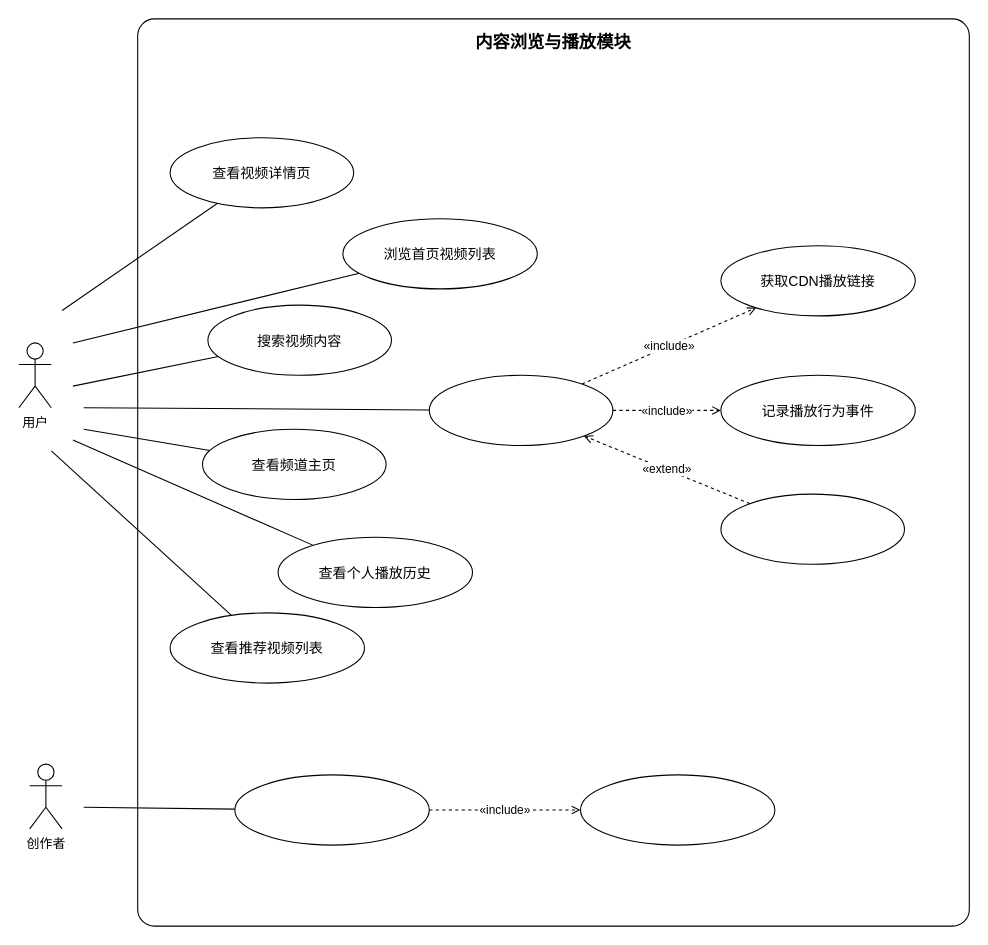
Image size: 988x945. Some labels were removed from this diagram. Here are the shapes that lost their labels. From the top down, the centre of each, then its label:
the point at 520,410: 播放HLS视频流
the point at 812,528: 切换视频清晰度
the point at 331,809: 查看视频处理状态
the point at 677,809: 查看转码阶段详情
